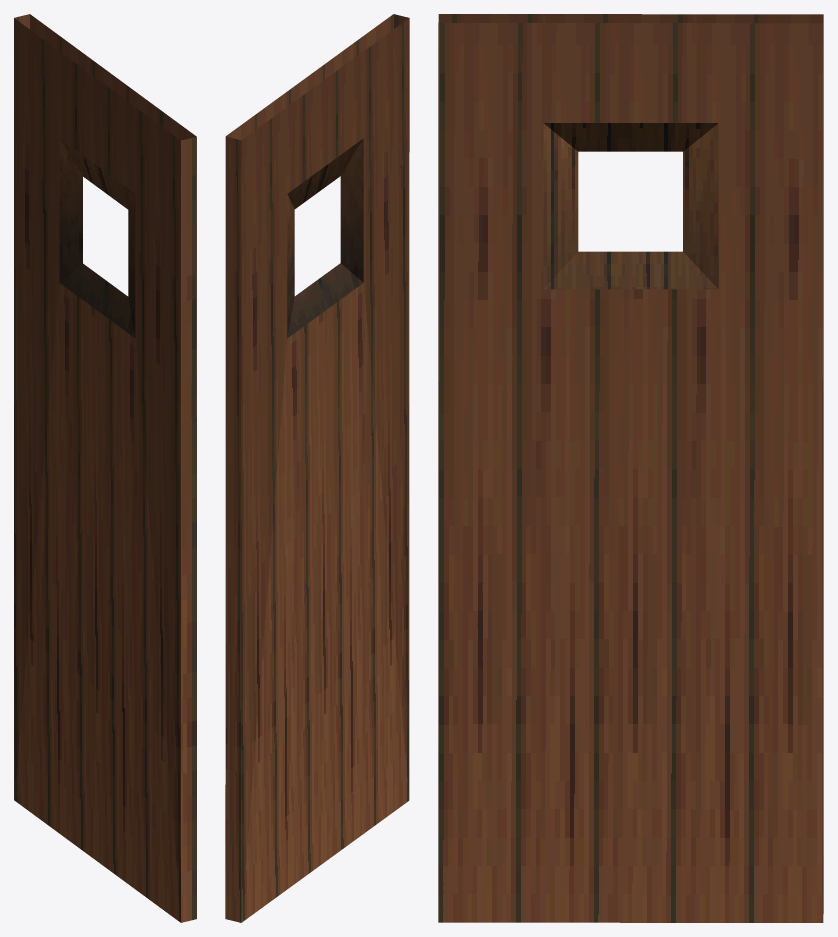
The model's file is primary_065.glb.
3 renders of one model, left to right at view 1: azimuth 30°, elevation 25°; view 2: azimuth 150°, elevation 25°; view 3: azimuth 270°, elevation 25°, orthographic. The views are drawn at different scales.
Parts seen in each view (by area): view 1: Object; view 2: Object; view 3: Object.
Part boxes in pixels (x1,y1,x2,y2): Object: [14, 14, 196, 922]; Object: [225, 14, 409, 922]; Object: [438, 14, 823, 922].
Size of the model in its own units: 0.0541 by 2.44 by 0.9459.
Materials: 5 (5 with a texture image).
